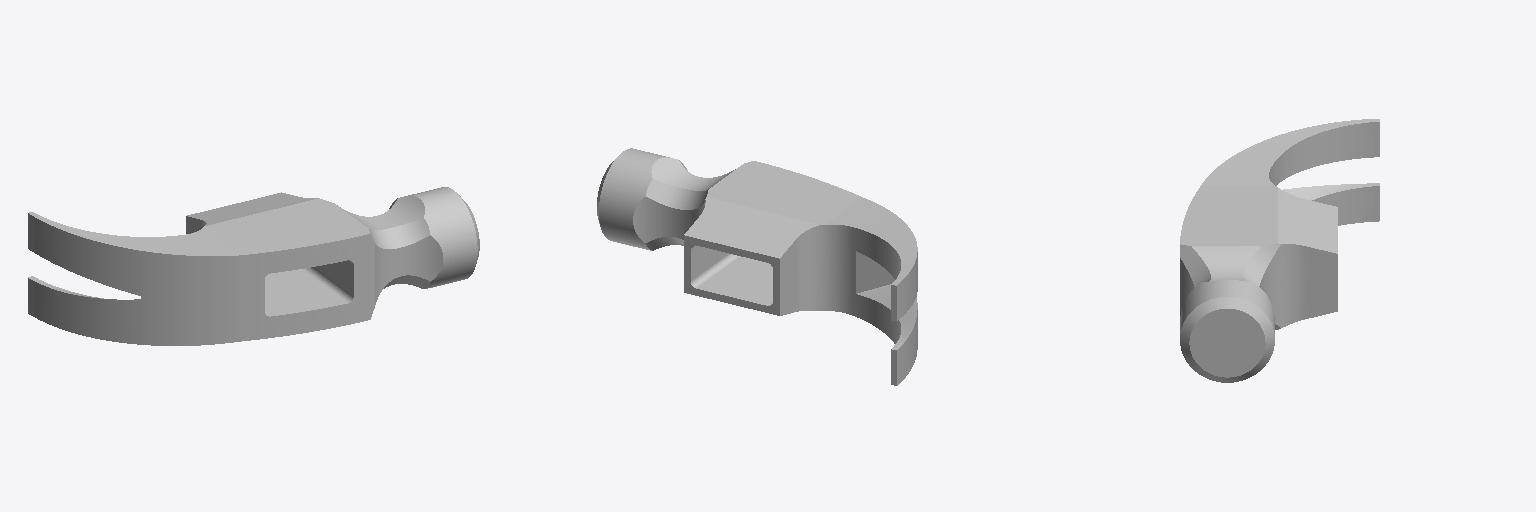
Rendered from hammer_0.obj.
The picture shows the model from 3 angles: view 1: azimuth 30°, elevation 25°; view 2: azimuth 150°, elevation 25°; view 3: azimuth 270°, elevation 25°; orthographic projection.
Bounding box in the file's own units: 0.13 × 0.035 × 0.0631.